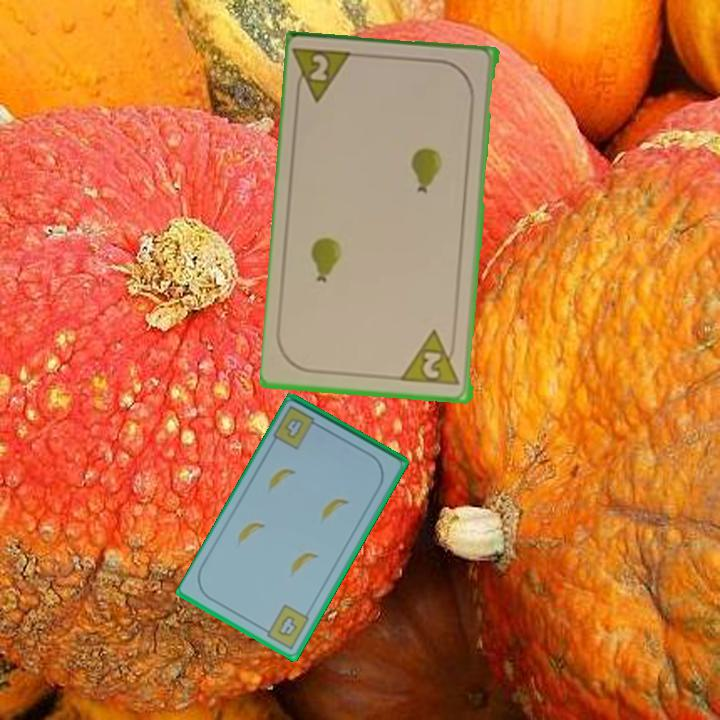2p: (292, 44, 358, 107), (400, 328, 463, 389)
4b: (258, 601, 313, 652), (270, 402, 325, 452)
